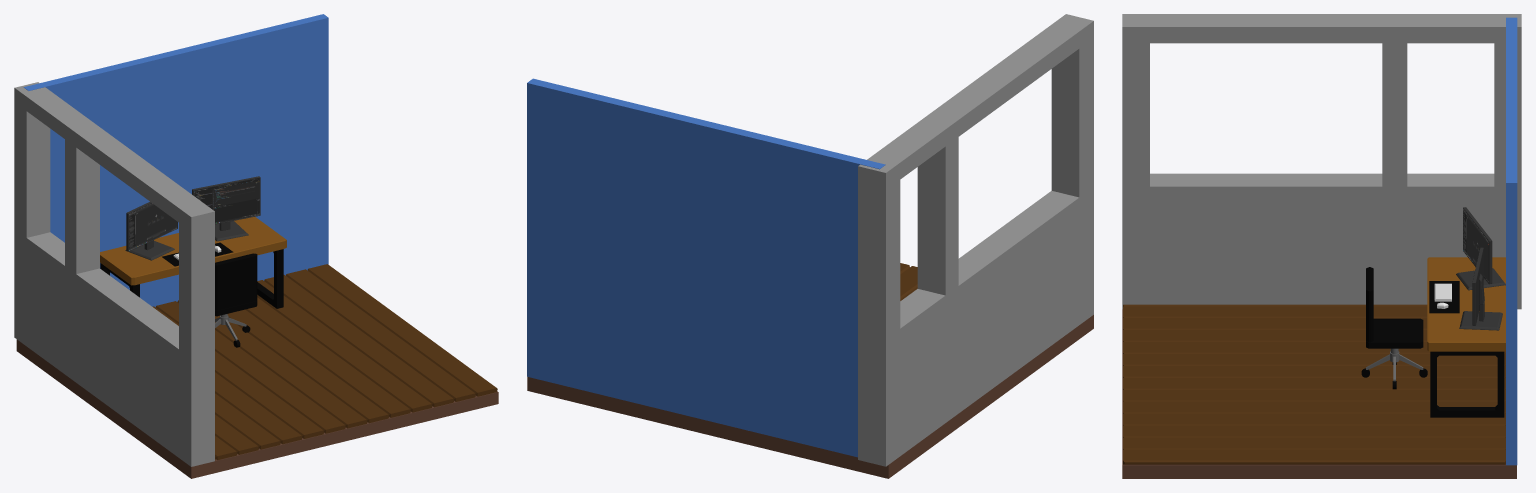
File: building.glb
The picture shows the model from 3 angles, left to right: view 1: azimuth 30°, elevation 25°; view 2: azimuth 150°, elevation 25°; view 3: azimuth 270°, elevation 25°; orthographic projection. The views are drawn at different scales.
Parts seen in each view (by area): view 1: Cube.011, Cube.012, Cube.014, Cube.010, Table, Cube.003, Cube.001, Cube.009, Cube; view 2: Cube.012, Cube.011, Cube.010; view 3: Cube.011, Cube.014, Cube.010, Cube.012, Table, Cube.001, Cube, Cube.009, Cube.003, Plane.
Part boxes in pixels (left/top/right/bottom): Cube.011: left=14, top=82, right=214, bottom=466; Cube.012: left=23, top=14, right=328, bottom=307; Cube.014: left=152, top=264, right=497, bottom=460; Cube.010: left=16, top=339, right=498, bottom=478; Table: left=100, top=217, right=286, bottom=285; Cube.003: left=192, top=176, right=260, bottom=241; Cube.001: left=215, top=253, right=257, bottom=316; Cube.009: left=125, top=202, right=177, bottom=260; Cube: left=257, top=249, right=283, bottom=308; Cube.012: left=527, top=78, right=885, bottom=457; Cube.011: left=858, top=14, right=1093, bottom=466; Cube.010: left=527, top=315, right=1093, bottom=478; Cube.011: left=1122, top=14, right=1521, bottom=309; Cube.014: left=1123, top=304, right=1505, bottom=464; Cube.010: left=1122, top=309, right=1516, bottom=478; Cube.012: left=1506, top=17, right=1517, bottom=465; Table: left=1427, top=257, right=1505, bottom=351; Cube.001: left=1366, top=267, right=1423, bottom=348; Cube: left=1430, top=351, right=1504, bottom=417; Cube.009: left=1456, top=207, right=1505, bottom=290; Cube.003: left=1459, top=247, right=1502, bottom=330; Plane: left=1429, top=281, right=1459, bottom=313.
Bounding box in the file's own units: 8.12 × 6.62 × 8.1.
3 materials, 2 textured.
